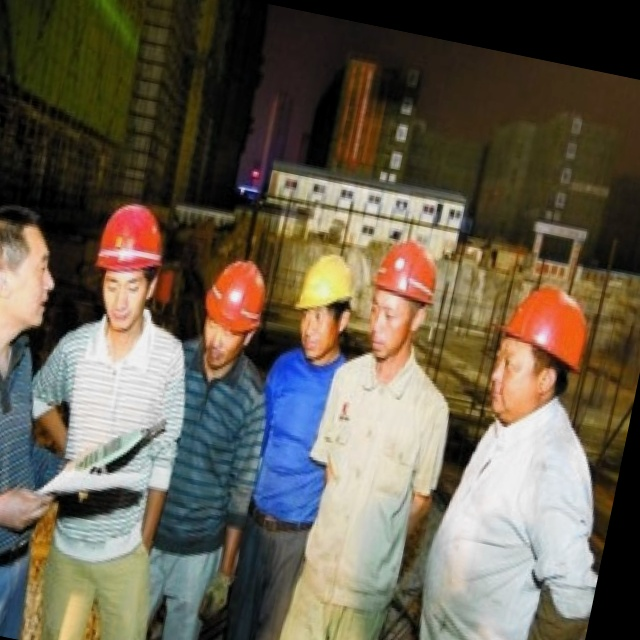Con_Casco: (84, 198, 169, 331), (194, 252, 271, 376)
Con_Chaleco: (401, 415, 611, 640), (291, 363, 455, 606)
Sin_Casco_Mascarrilla: (0, 204, 62, 341)
